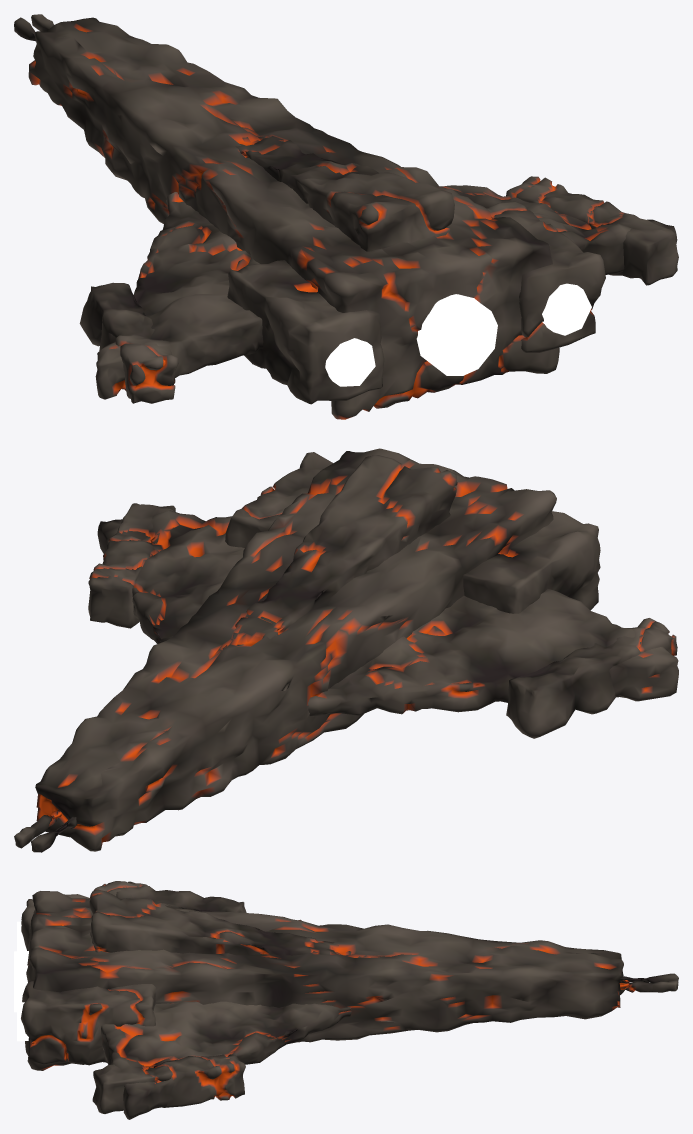
The model's file is thraal_cruiser.glb.
The picture shows the model from 3 angles, top to bottom: view 1: azimuth 30°, elevation 25°; view 2: azimuth 150°, elevation 25°; view 3: azimuth 270°, elevation 25°; orthographic projection. The views are drawn at different scales.
Parts seen in each view (by area): view 1: thraal_cruiser.001; view 2: thraal_cruiser.001; view 3: thraal_cruiser.001.
Part boxes in pixels (left/top/right/bottom): thraal_cruiser.001: left=14, top=14, right=678, bottom=419; thraal_cruiser.001: left=14, top=448, right=678, bottom=852; thraal_cruiser.001: left=14, top=881, right=678, bottom=1119.
Size of the model in its own units: 7.66 by 2.4 by 10.
